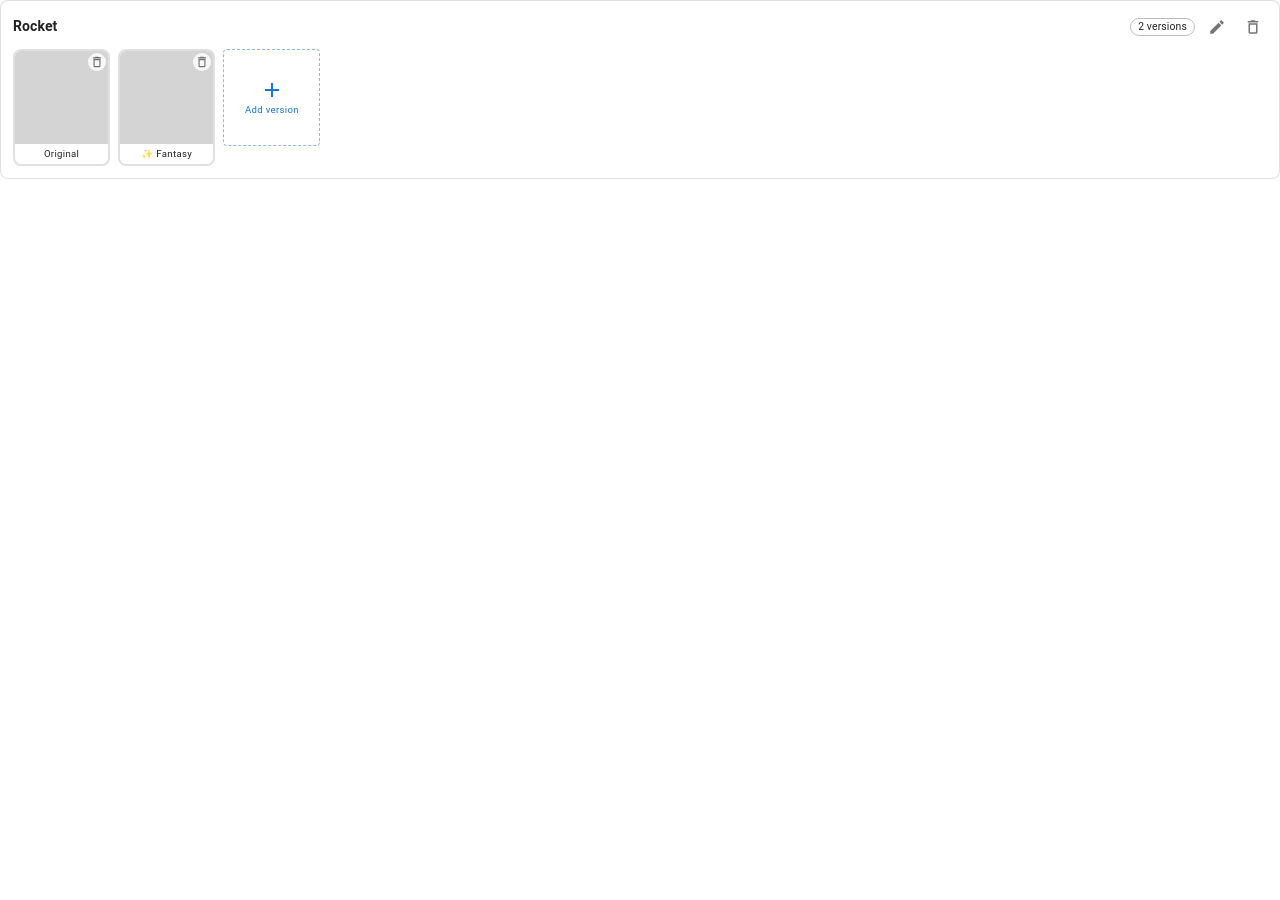
it: DrawingGroupCard rename (FEAT-160) › a no-op is not a write: saving the same name writes nothing and claims nothing
This screenshot has width=1280, height=900.
Click the button named "Rename drawing".
click(1217, 27)  # box x1=1203 y1=13 x2=1231 y2=41
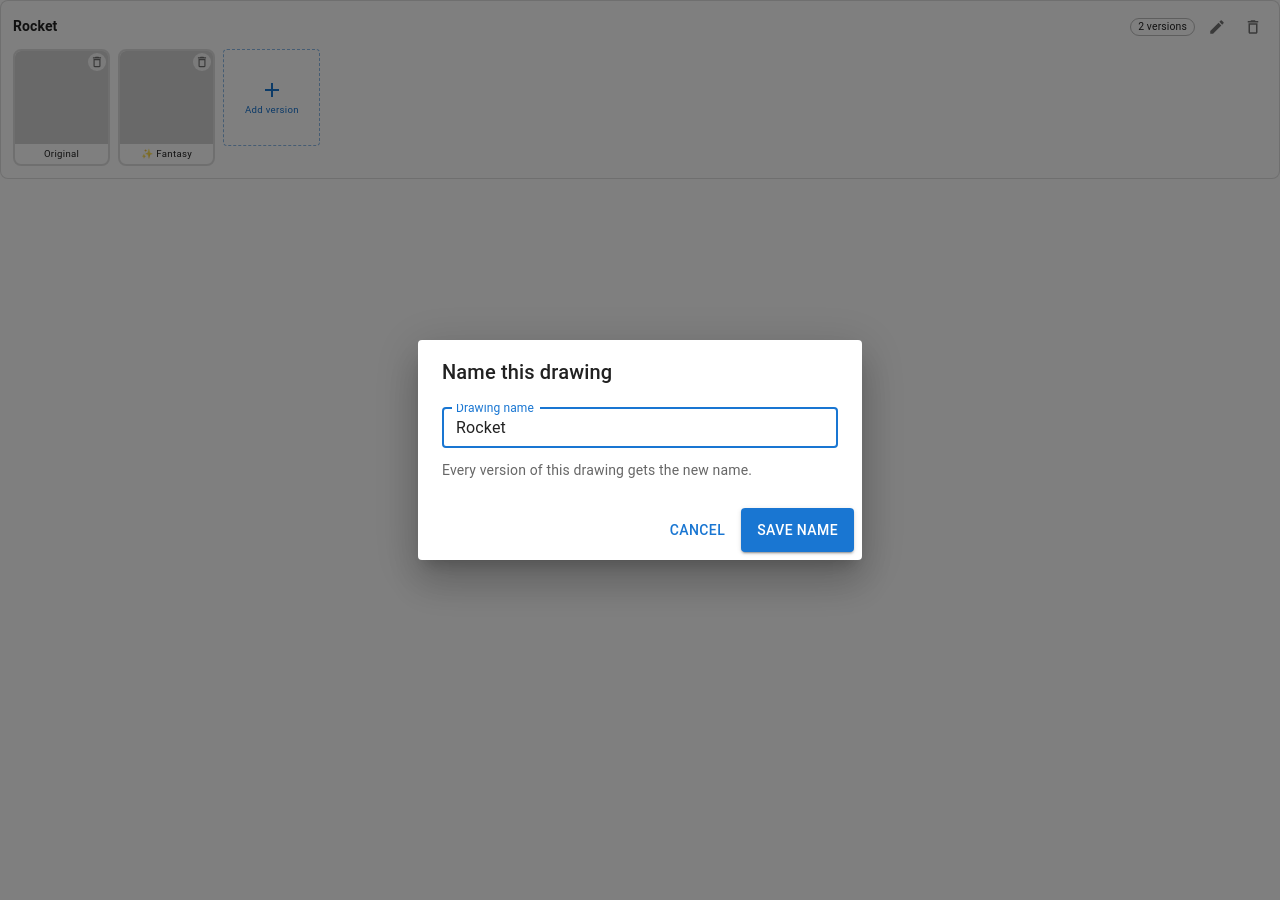
Click the button "Save name".
click(798, 530)  # box x1=741 y1=508 x2=854 y2=552
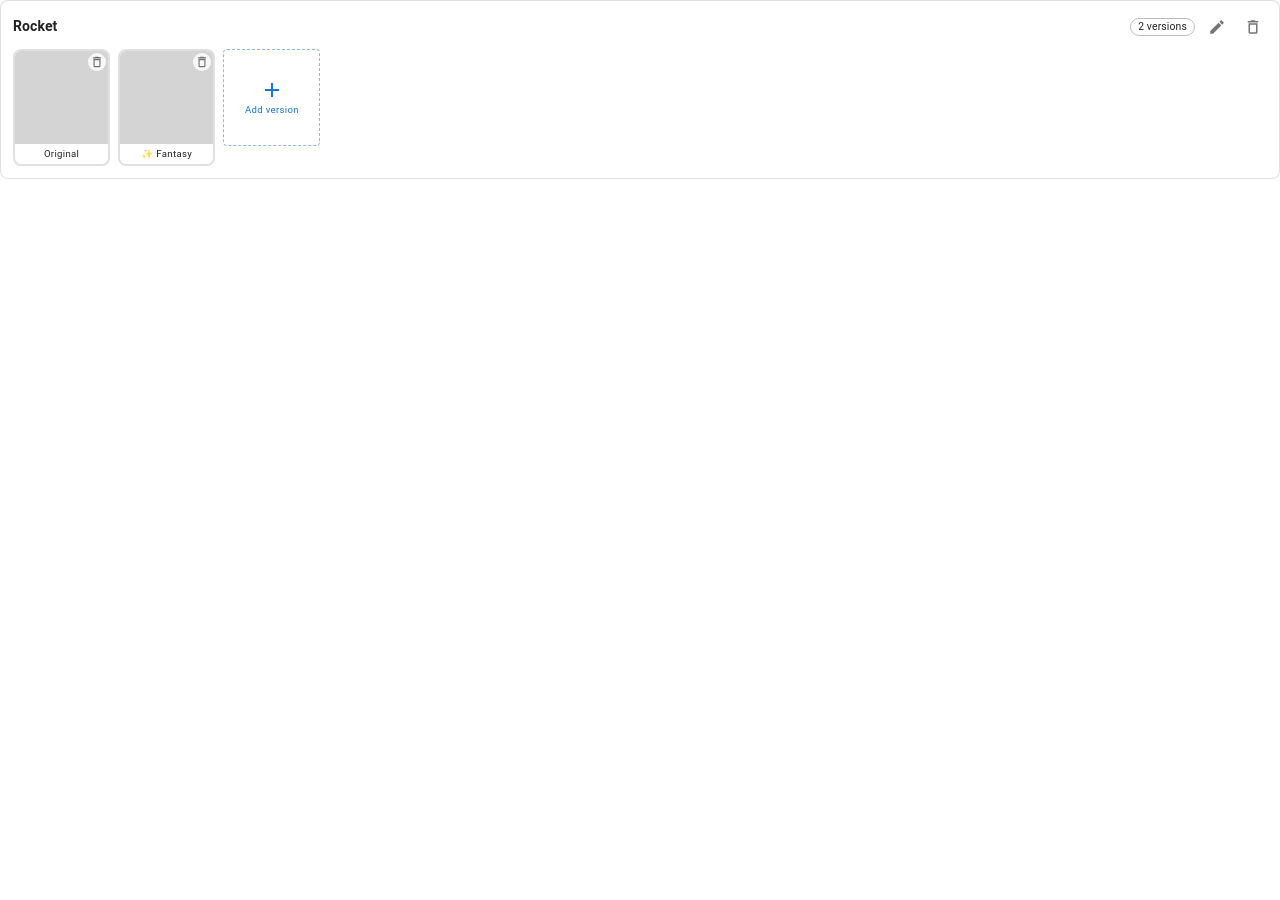
Now the button "Save name" is gone
